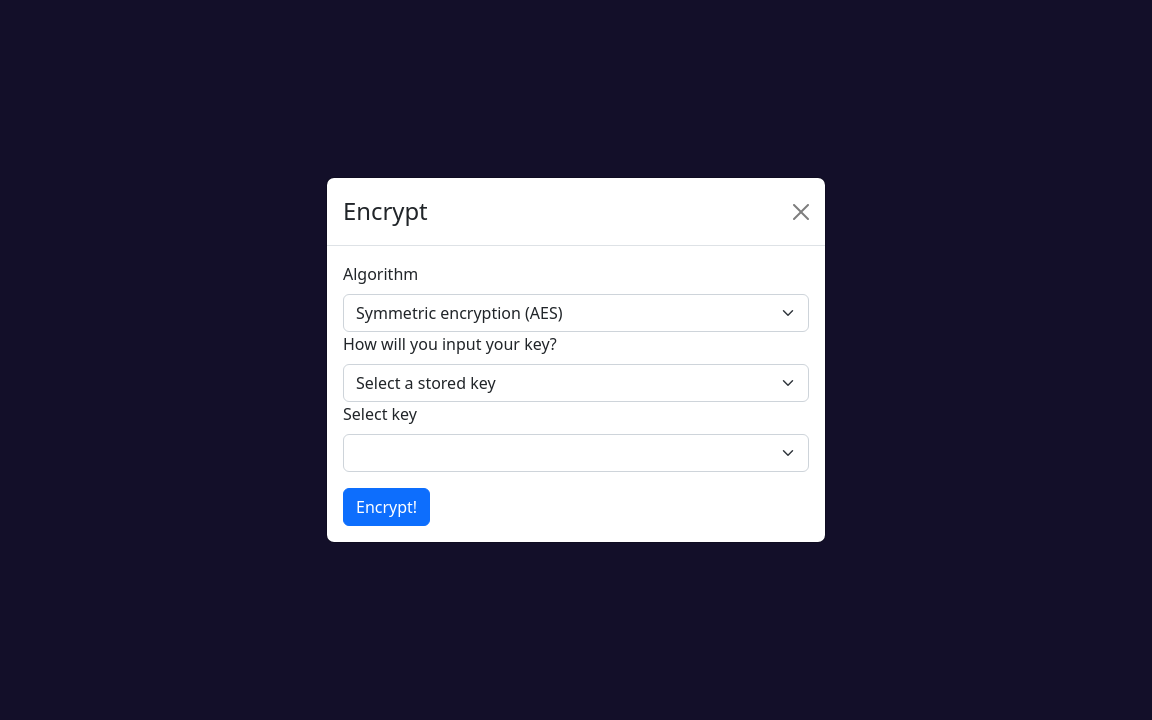
Test: has a textbox for entering a key
The image size is (1152, 720).
Select "Input into a text field" in the dropdown labelled "How will you input your key?". click: x=576, y=383
box: [343,364,809,402]
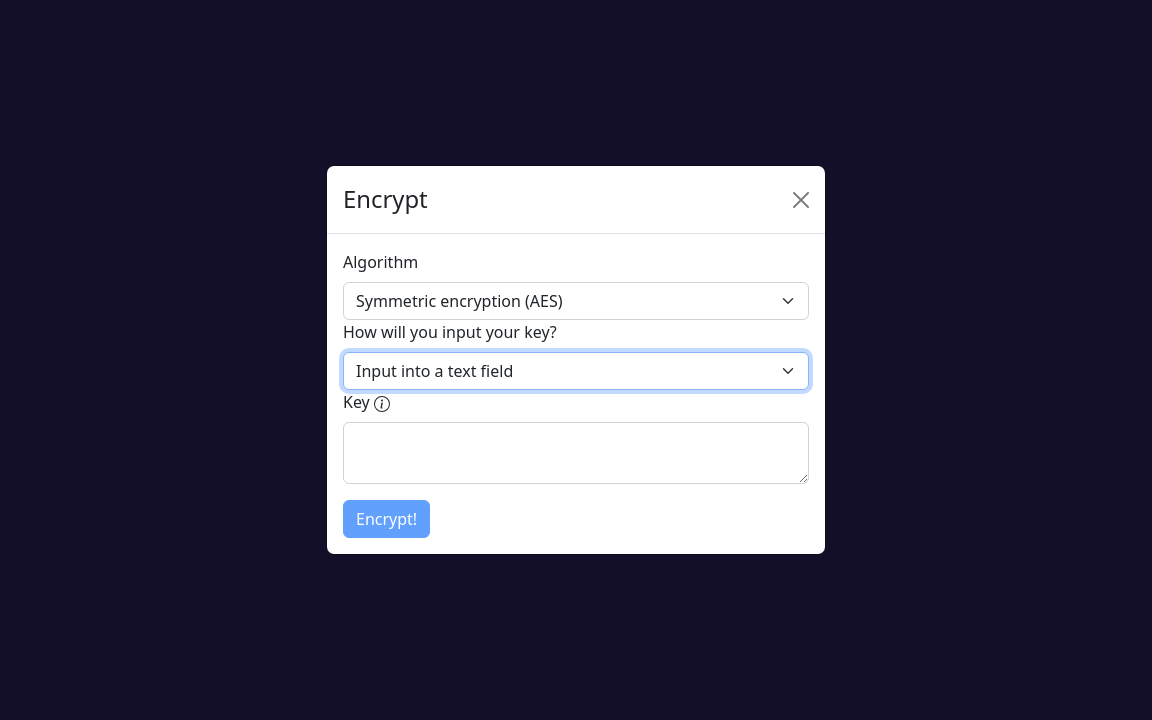
Expected: the text box labelled "Key" is shown, [343,422,809,484]
